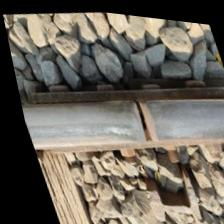person: (94, 77, 185, 159)
